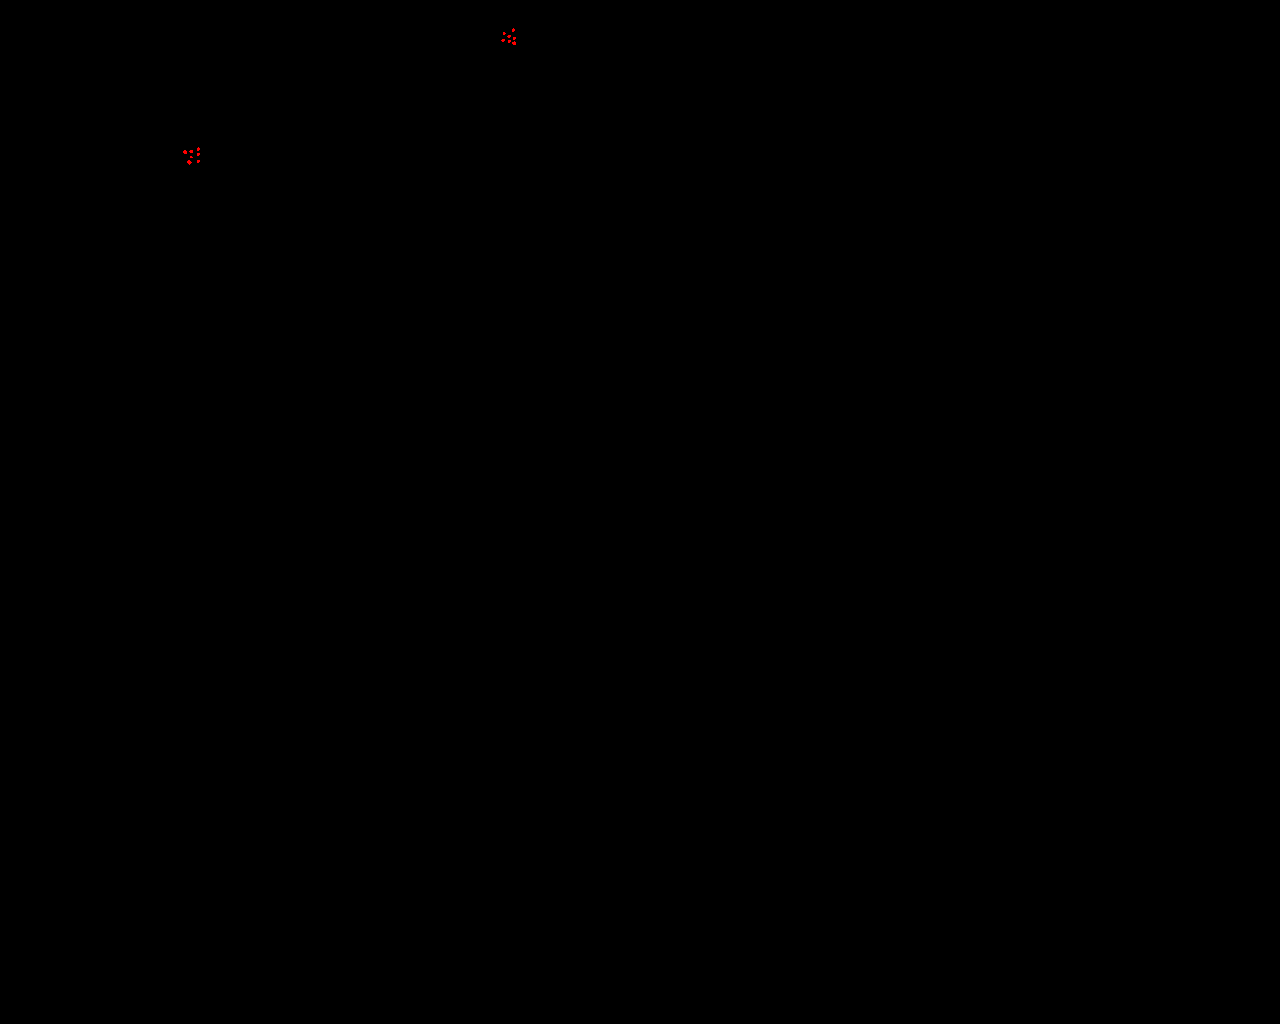Target: (187, 160, 192, 165), (512, 41, 516, 45), (512, 28, 515, 32), (507, 34, 511, 38), (501, 39, 505, 42), (183, 150, 187, 154), (513, 37, 516, 40), (508, 40, 511, 43), (197, 147, 200, 152), (189, 150, 193, 153), (503, 32, 506, 34), (197, 153, 200, 156), (190, 156, 193, 158), (197, 160, 200, 163)
